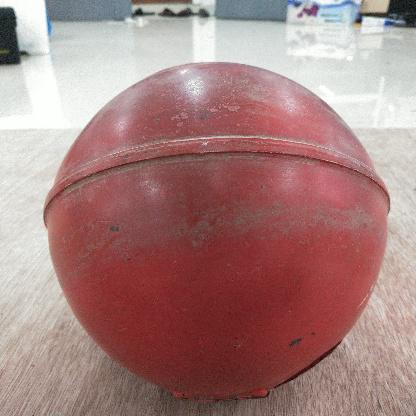red_buoy: (40, 61, 390, 398)
